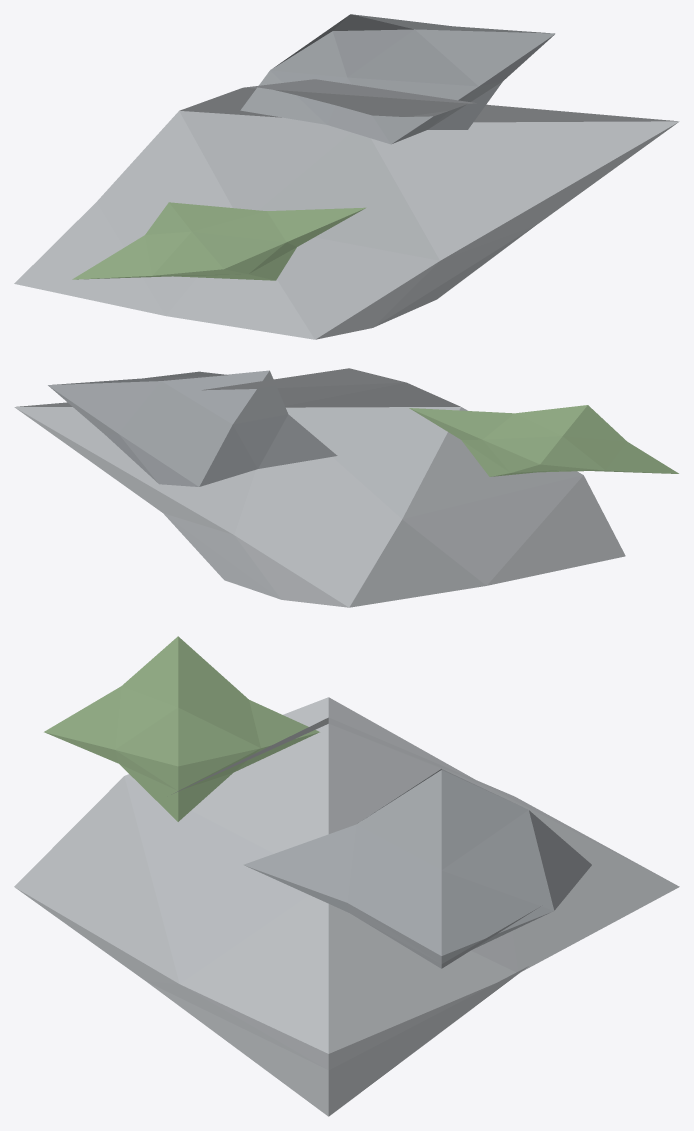
Rendered from boulder_v08.glb.
The picture shows the model from 3 angles, top to bottom: view 1: azimuth 30°, elevation 25°; view 2: azimuth 150°, elevation 25°; view 3: azimuth 270°, elevation 25°; orthographic projection. The views are drawn at different scales.
Parts seen in each view (by area): view 1: lod0; view 2: lod0; view 3: lod0.
Part boxes in pixels (<box>): lod0: <box>14,14,679,339</box>; lod0: <box>14,368,678,607</box>; lod0: <box>14,636,679,1116</box>.
Size of what is drawn, in the model's own units: 3.43 by 1.28 by 2.3.
